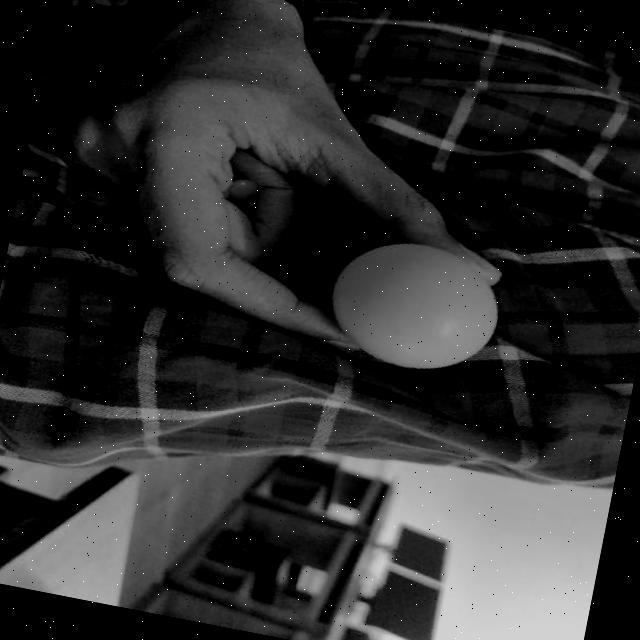ping-pong-ball: (322, 228, 511, 382)
